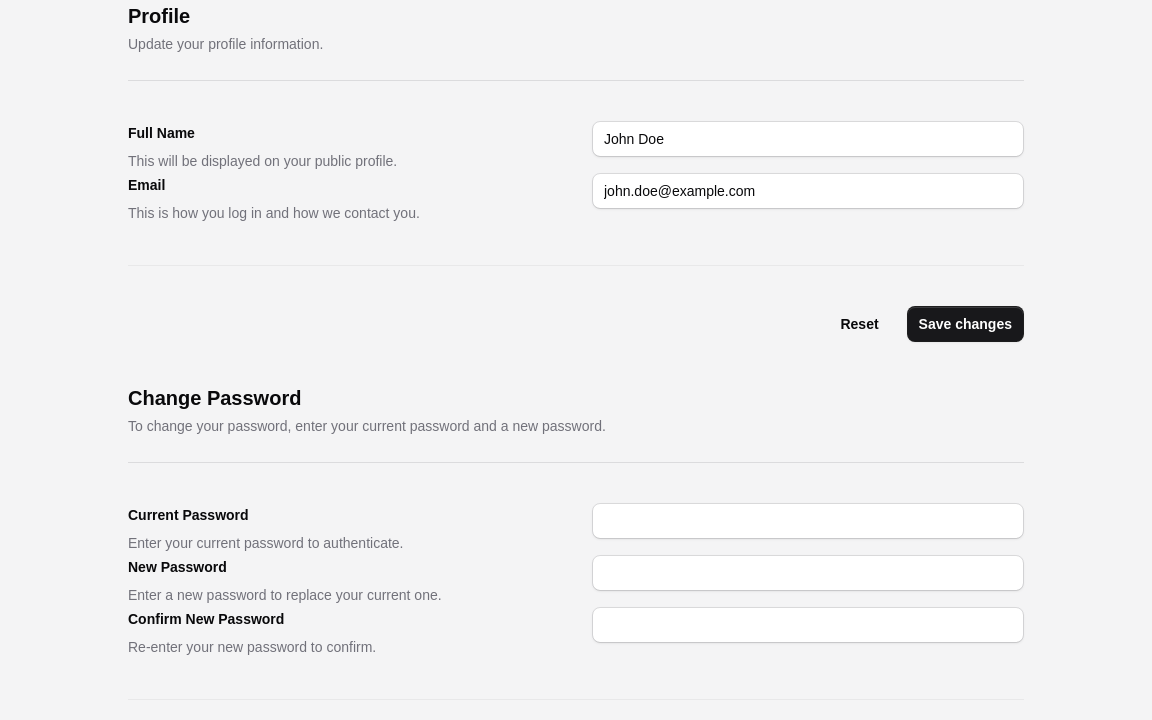
Test: ProfilePage › displays error message when user data update fails
Replace the text in the field named "Full Name" with "Jane Doe" at (808, 139), box x1=592 y1=121 x2=1024 y2=157
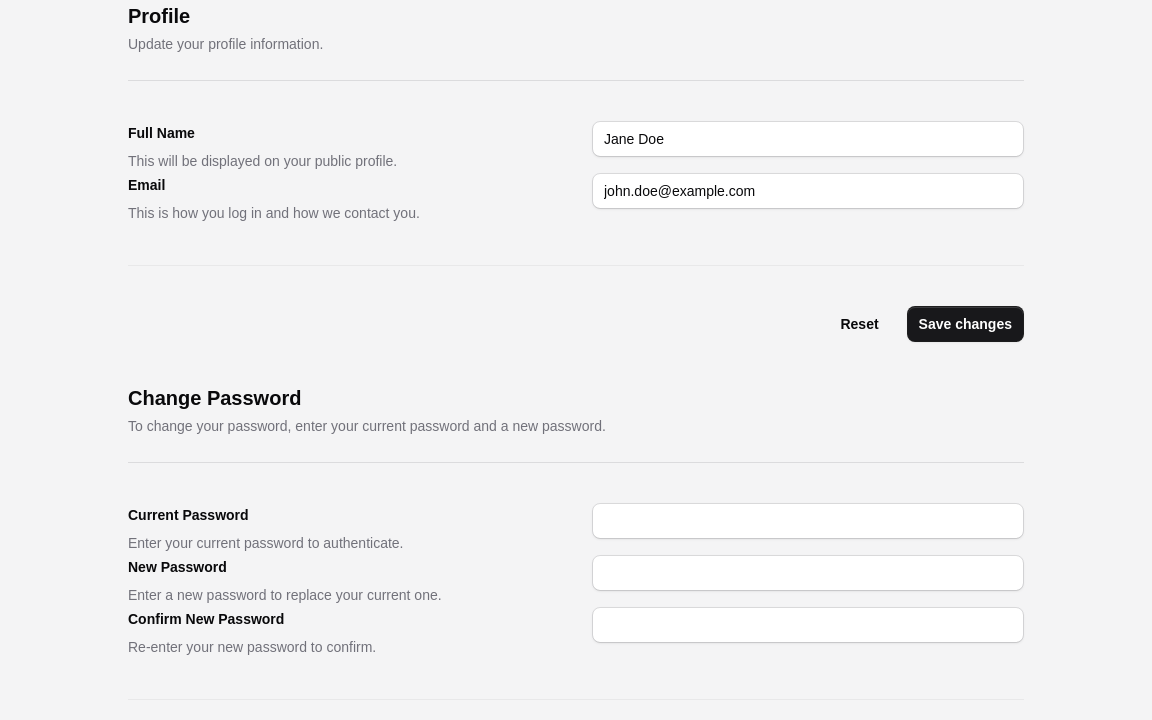
Replace the text in the field named "Email" with "jane.doe@example.com" at (808, 191), box x1=592 y1=173 x2=1024 y2=209
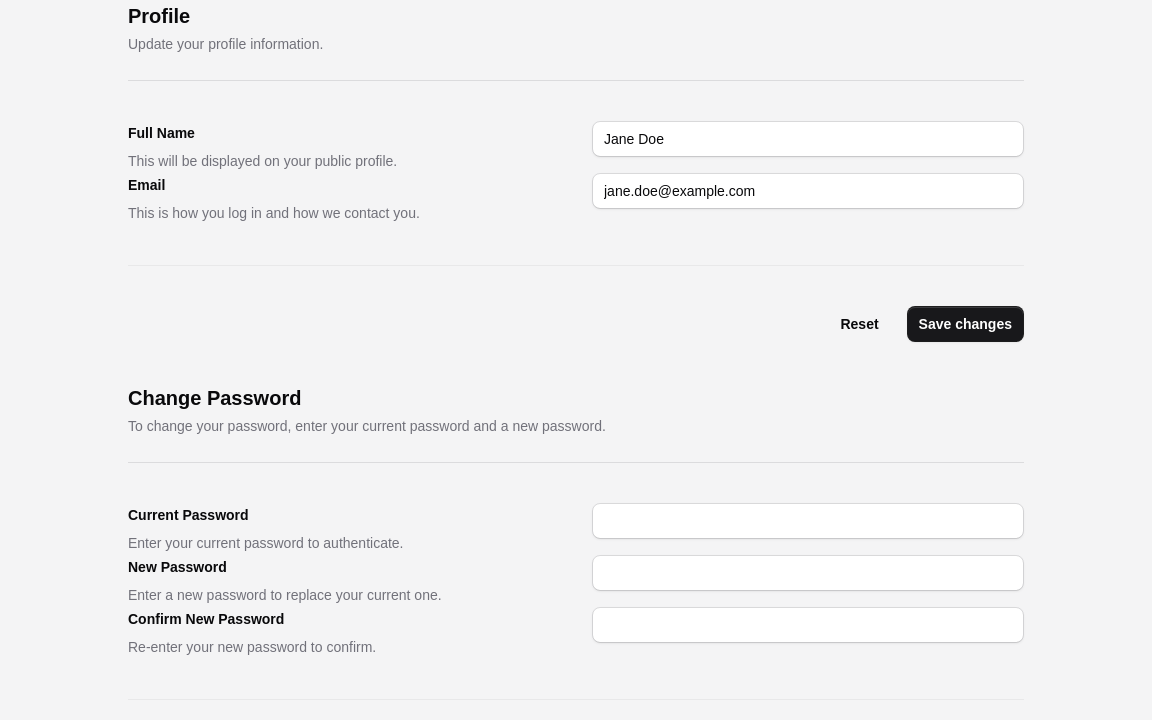
Click the button "Save changes" at (965, 324), box x1=907 y1=306 x2=1024 y2=342
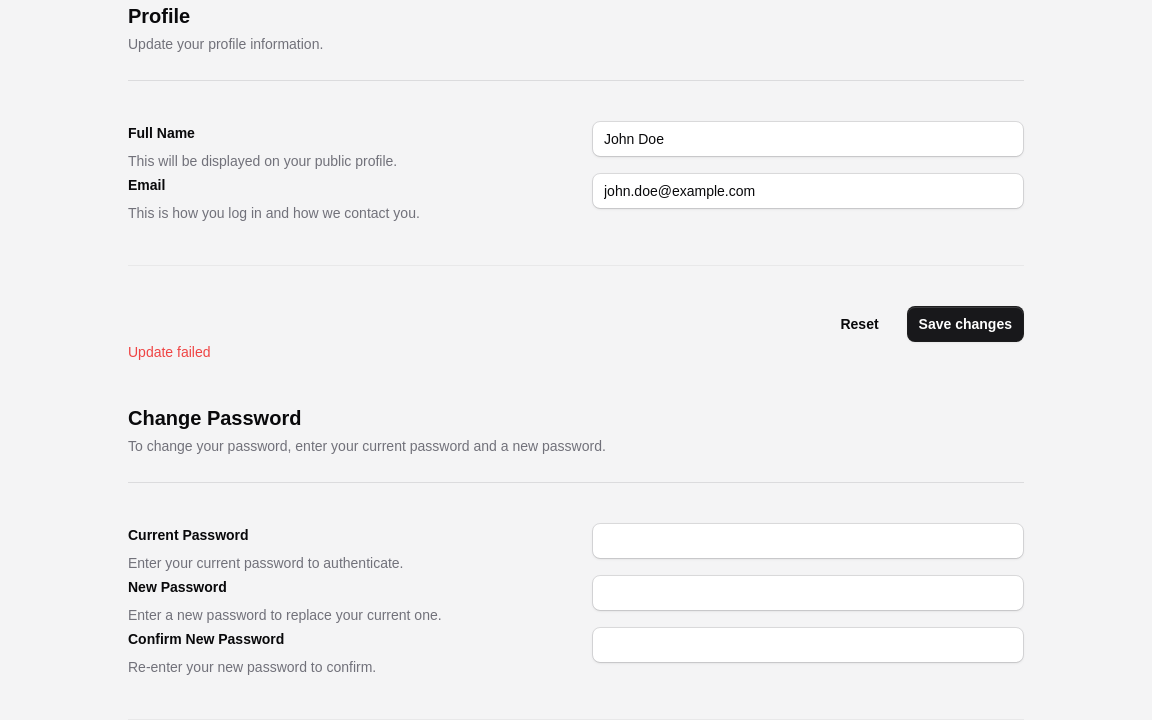
Check: the text "Update failed" is shown, box x1=128 y1=344 x2=210 y2=360
